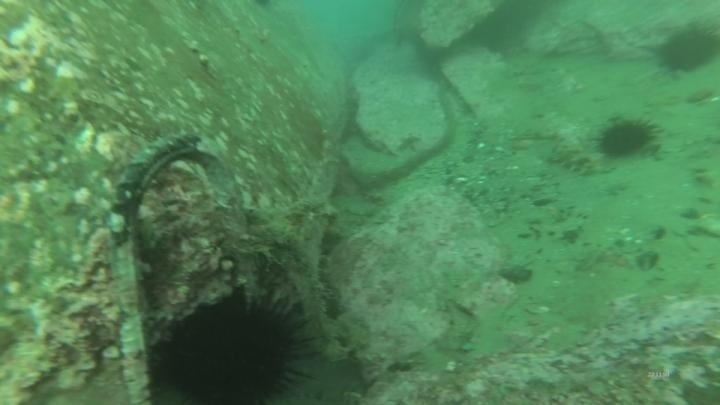echinus: (146, 285, 320, 405), (652, 19, 720, 78), (594, 113, 661, 162)
holothurian: (545, 141, 614, 179)
